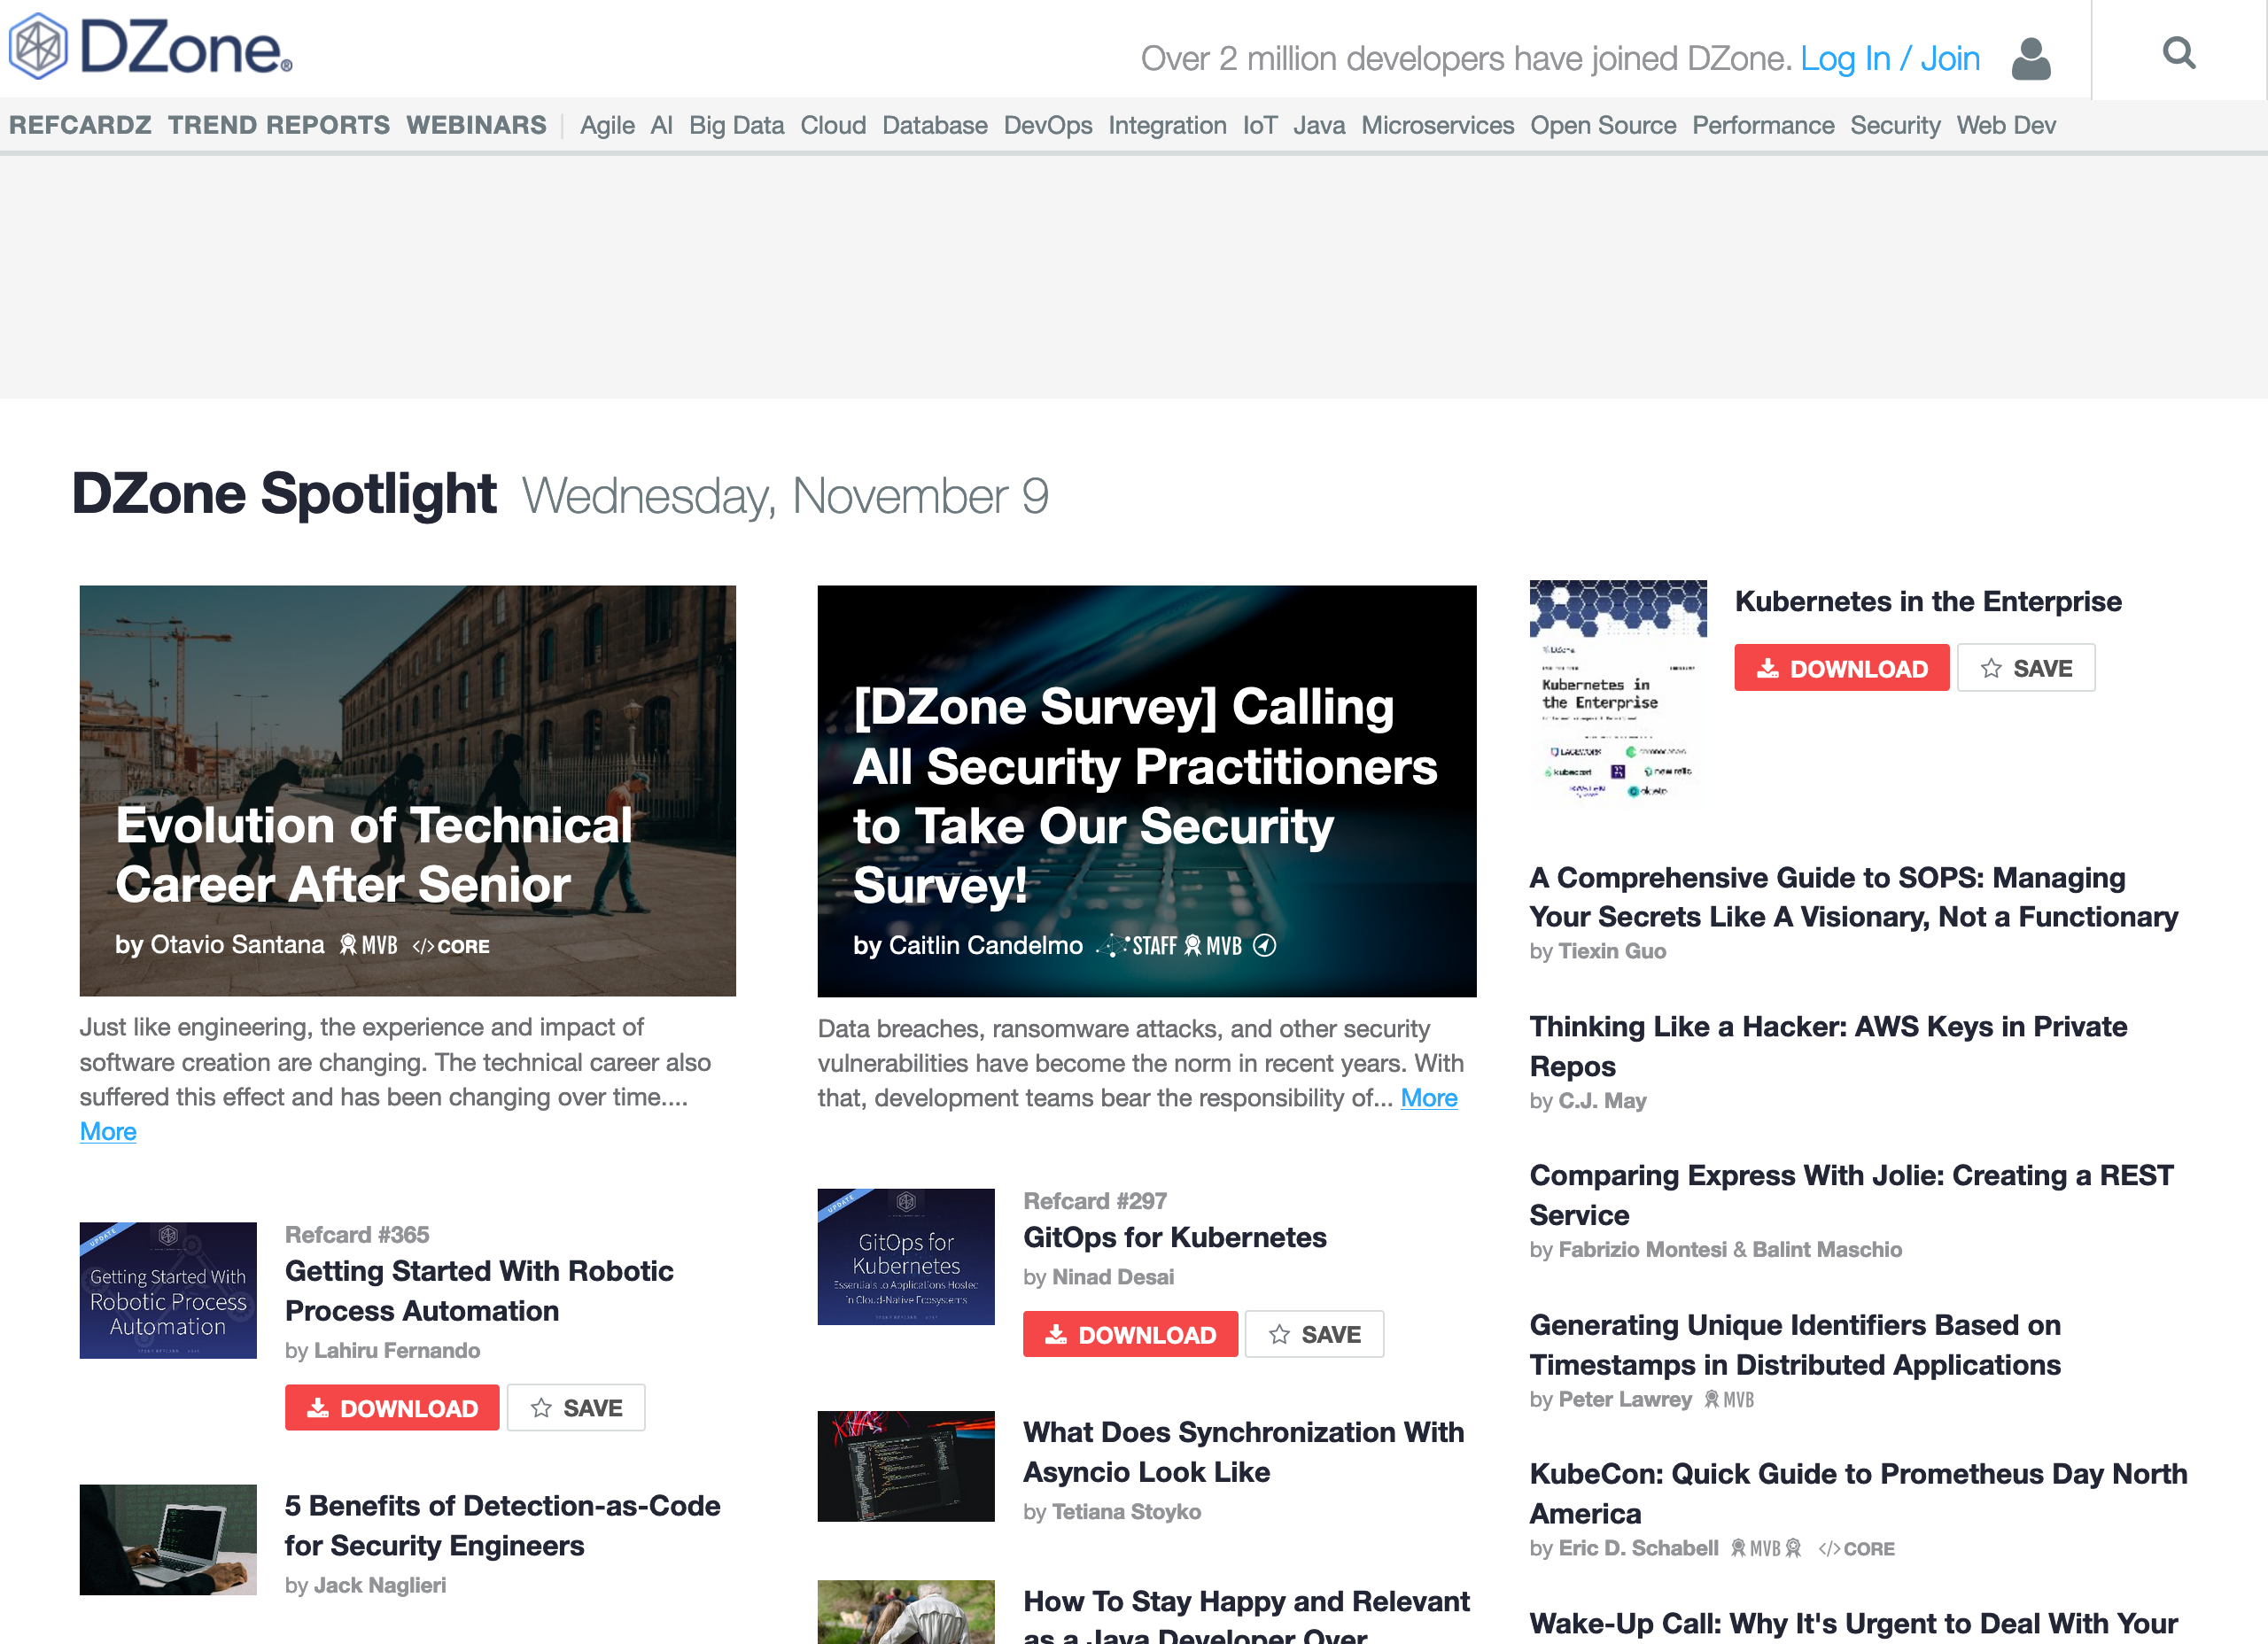Login: (1793, 32, 1896, 77)
